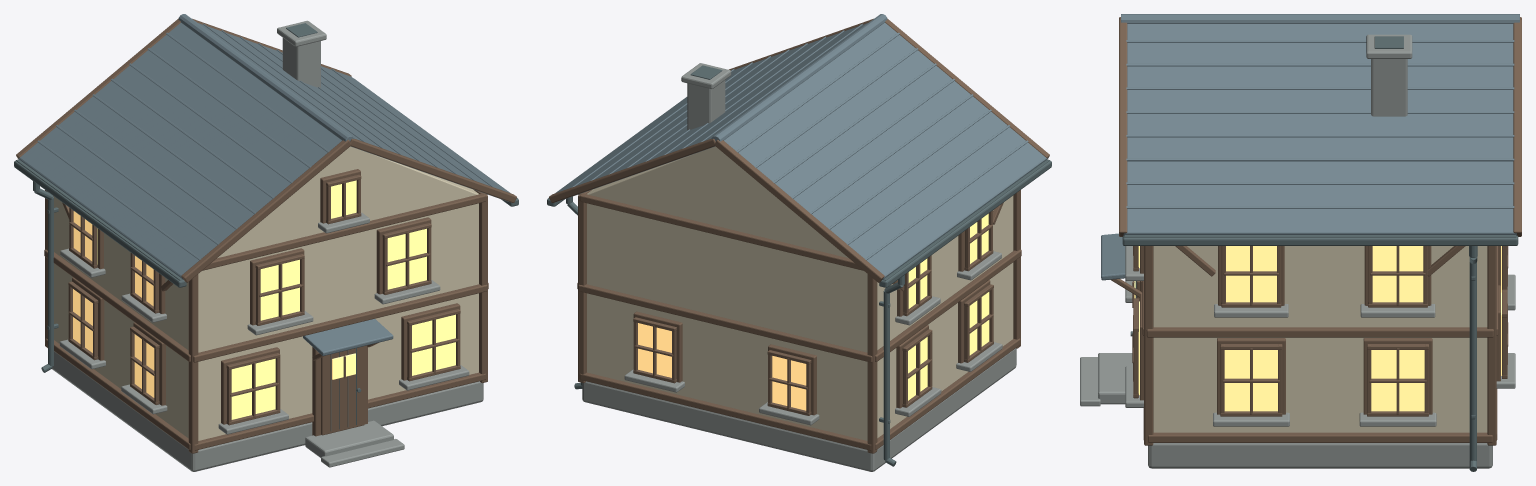
The model's file is SM_CanalHouseA.fbx.
The picture shows the model from 3 angles, left to right: view 1: azimuth 30°, elevation 25°; view 2: azimuth 150°, elevation 25°; view 3: azimuth 270°, elevation 25°; orthographic projection. The views are drawn at different scales.
Parts seen in each view (by area): view 1: SM_CanalHouseA; view 2: SM_CanalHouseA; view 3: SM_CanalHouseA.
Boxes of the visible parts, box(x1,y1,x2,y2) form: SM_CanalHouseA: box(14, 14, 518, 471); SM_CanalHouseA: box(547, 14, 1051, 471); SM_CanalHouseA: box(1080, 14, 1521, 471).
Size of the model in its own units: 8.16 by 7.69 by 7.3.
